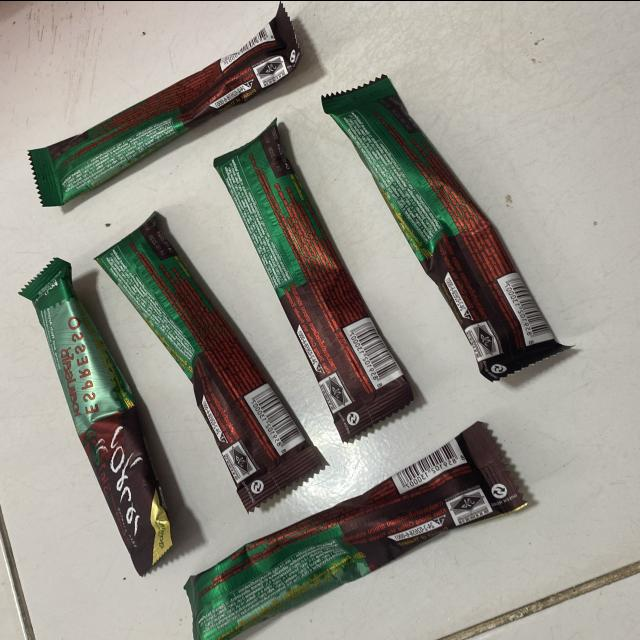plastik: (184, 422, 525, 640), (323, 76, 567, 379), (97, 213, 322, 510), (213, 118, 412, 441), (29, 3, 301, 205), (20, 257, 172, 574)
